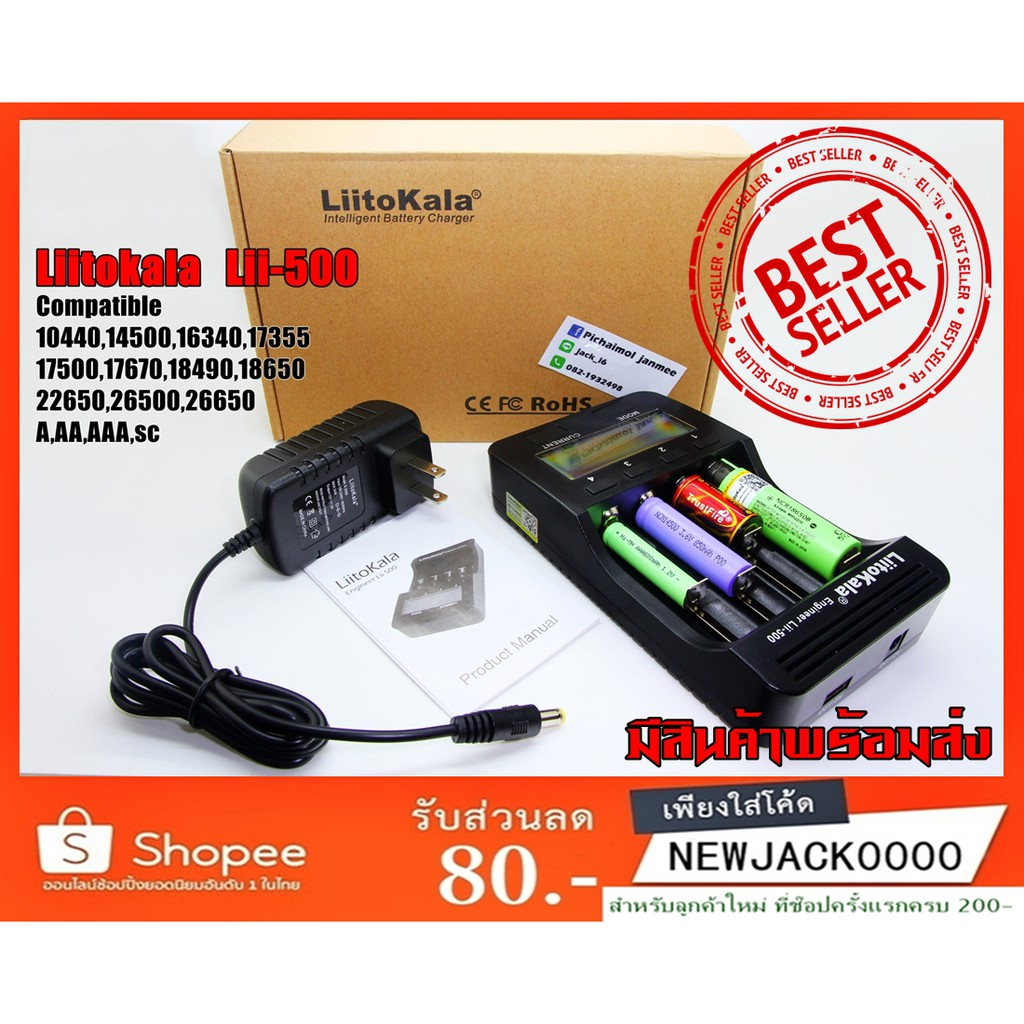Battery: (700, 458, 862, 581), (630, 493, 755, 598), (598, 517, 698, 608), (669, 467, 765, 556)
